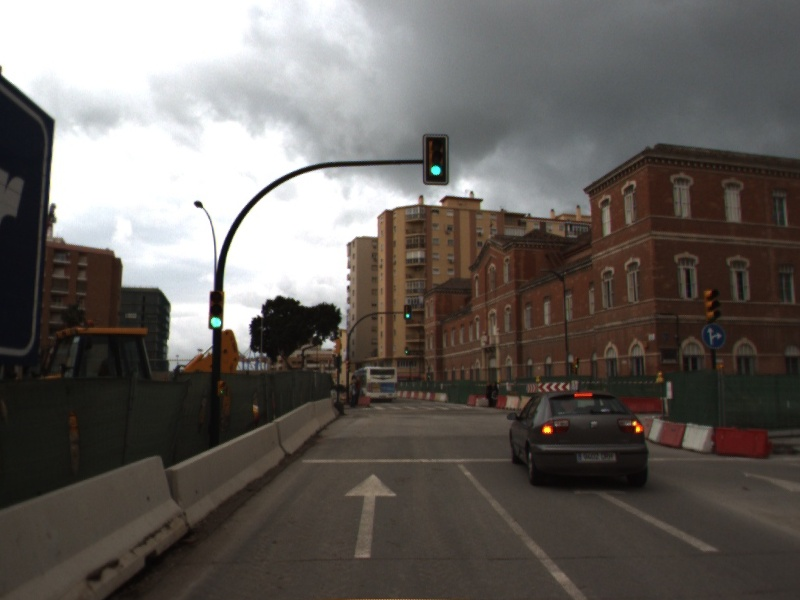STRAIGHT: (340, 470, 400, 561)
